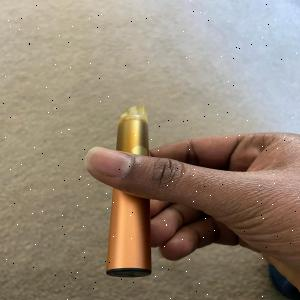Golden-E-Ciggirate: (98, 97, 161, 279)
